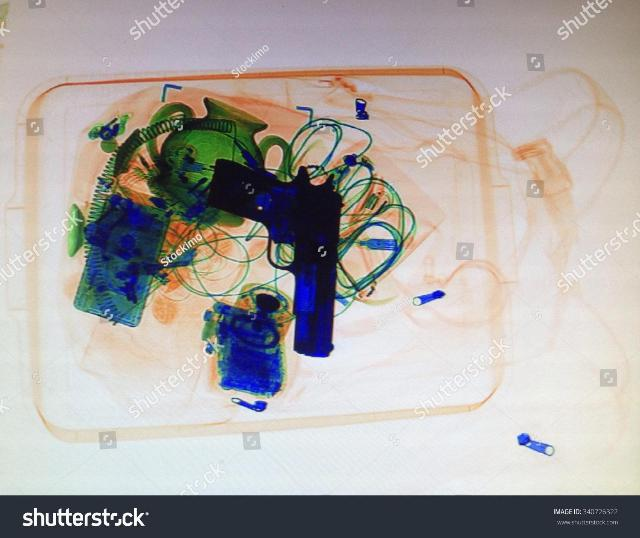Gun: (200, 154, 346, 358)
